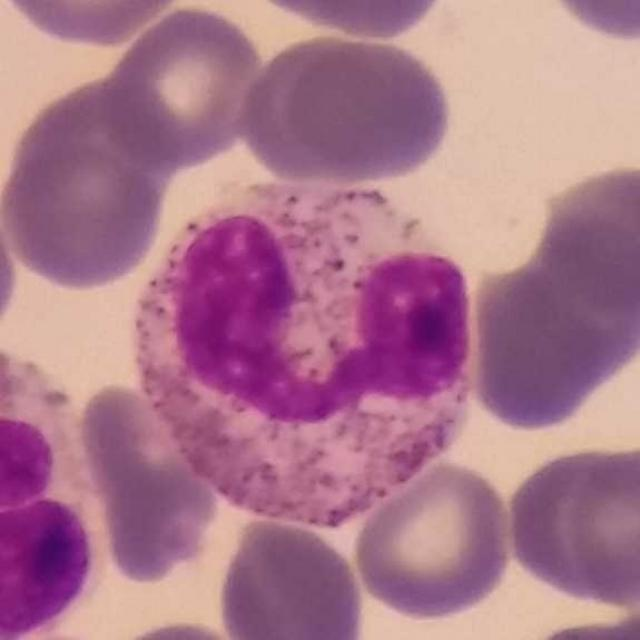eosino: (138, 164, 478, 532)
